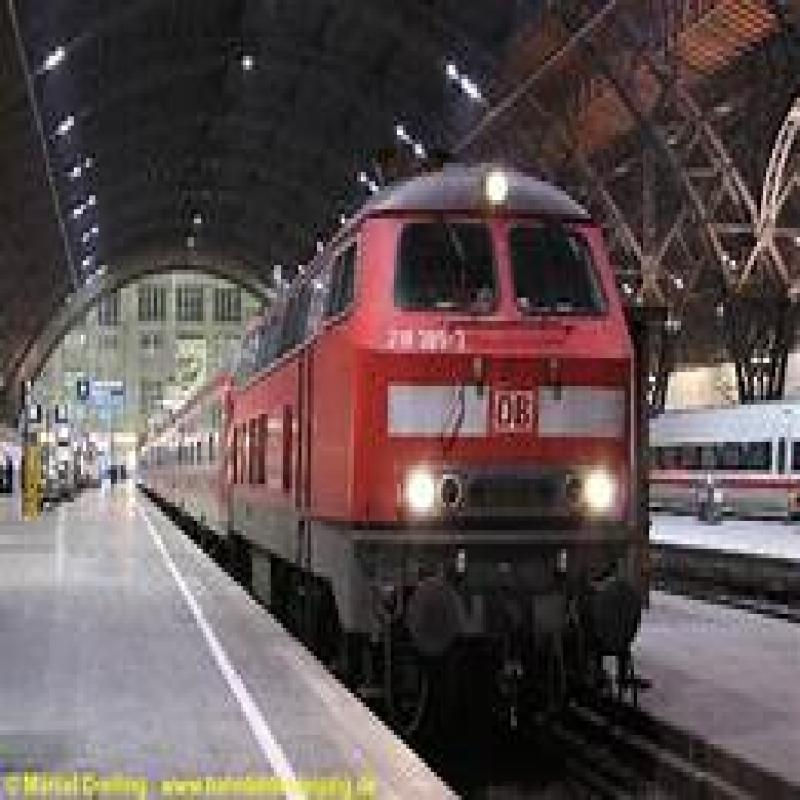train: (130, 178, 669, 634)
